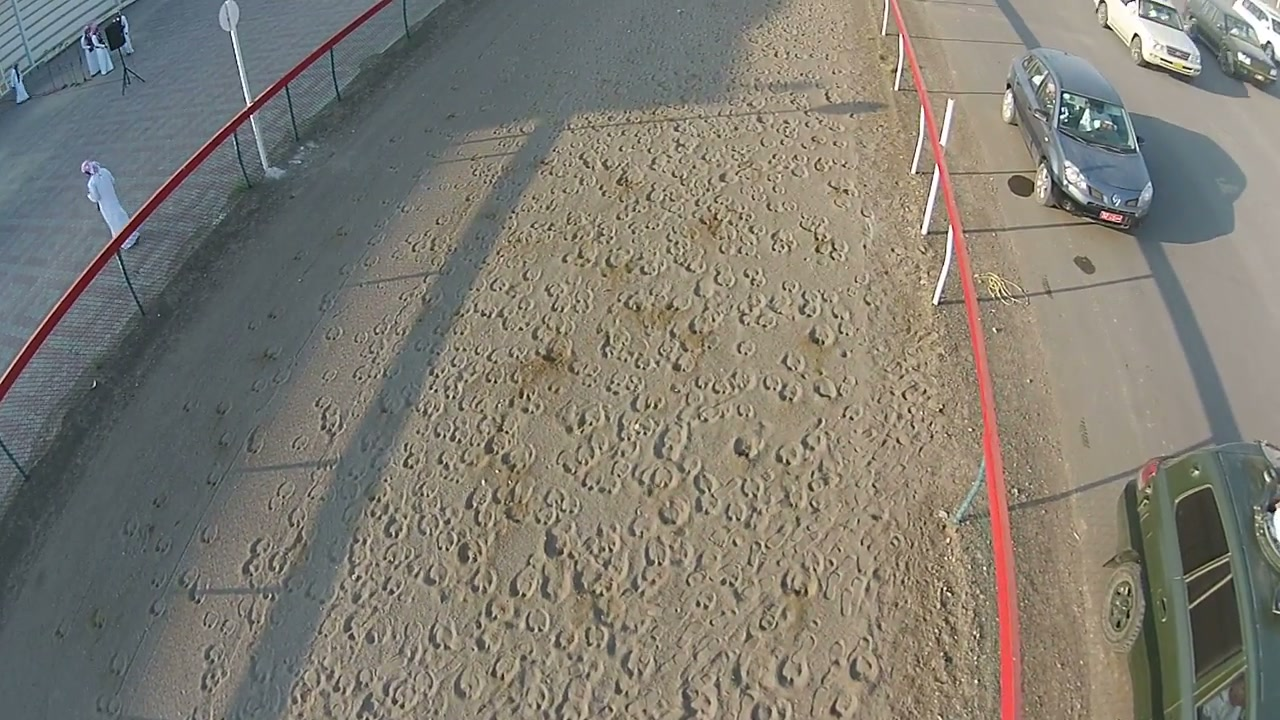animal_footprint: (109, 2, 971, 719)
